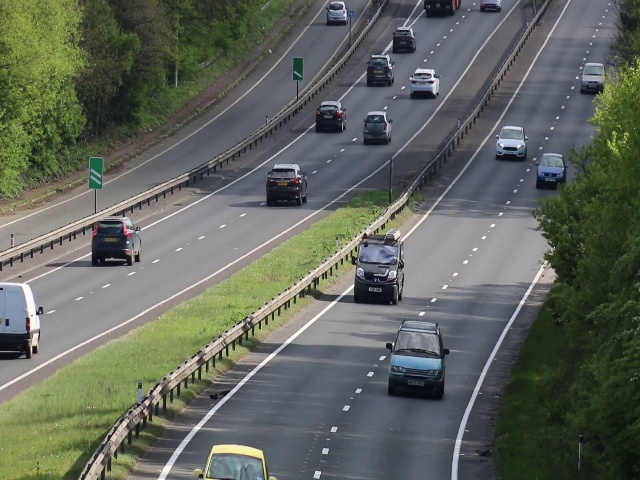car: (388, 330, 446, 399), (354, 242, 404, 302), (1, 282, 40, 358), (91, 215, 141, 269), (266, 163, 307, 207), (536, 152, 566, 190), (315, 100, 348, 134), (496, 125, 527, 161), (363, 110, 392, 144), (367, 52, 395, 87), (411, 67, 440, 98), (580, 62, 605, 97), (391, 26, 416, 52), (326, 1, 349, 25)
